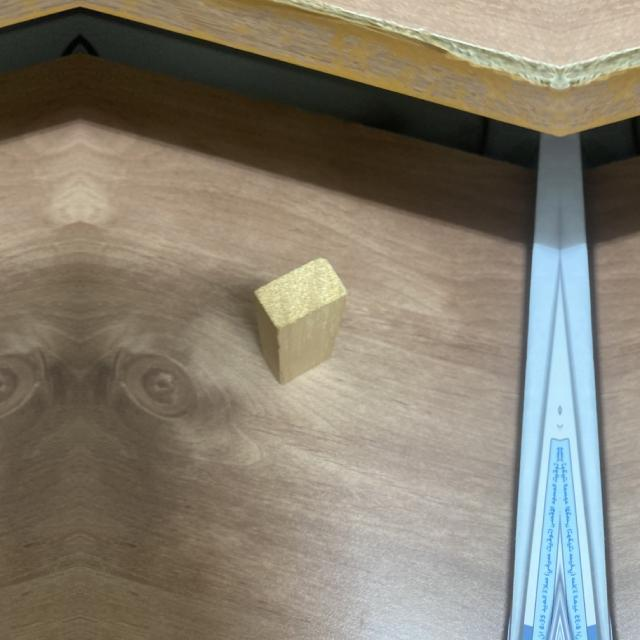jenga: (256, 255, 345, 381)
